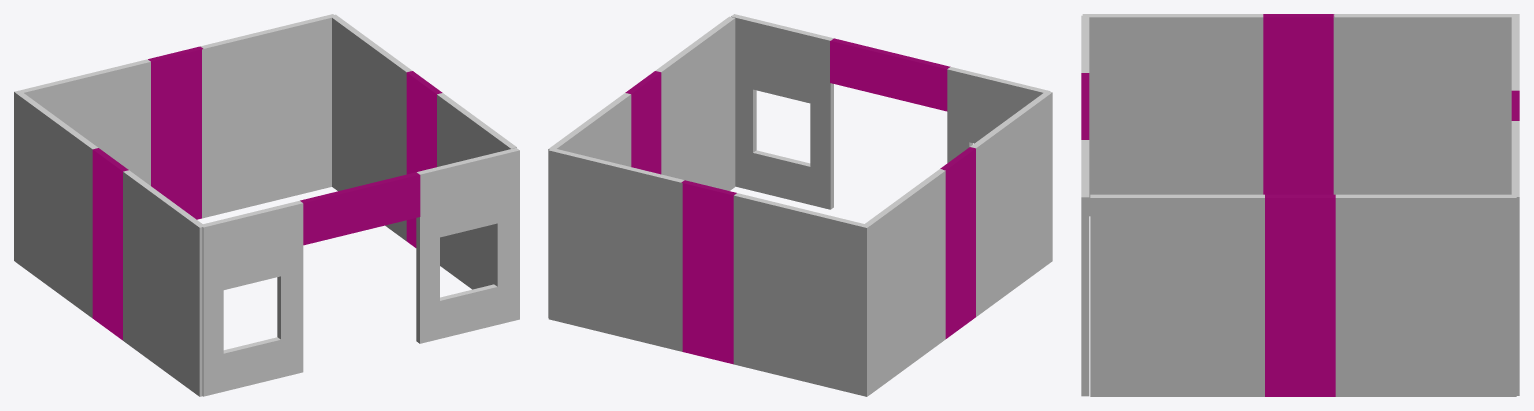
The model's file is room_foyer.glb.
3 renders of one model, left to right at view 1: azimuth 30°, elevation 25°; view 2: azimuth 150°, elevation 25°; view 3: azimuth 270°, elevation 25°, orthographic. The views are drawn at different scales.
Parts seen in each view (by area): view 1: foyer_back_wall, foyer_front.001, foyer_front, foyer_west_wall.002, foyer_west_wall.001, foyer_east_wall.002, foyer_back_wall.001, foyer_east_wall.001, south, wall_blocked_N, north, wall_blocked_W (+3 smaller); view 2: foyer_back_wall.001, foyer_back_wall, foyer_front.001, foyer_west_wall.001, foyer_west_wall.002, foyer_east_wall.001, south, wall_blocked_N, foyer_front, north, foyer_east_wall.002, wall_blocked_W (+3 smaller); view 3: foyer_east_wall.002, foyer_east_wall.001, foyer_west_wall.001, foyer_west_wall.002, wall_blocked_E, wall_blocked_W, east, west, foyer_front.001, foyer_back_wall, foyer_back_wall.001, south (+1 smaller).
Part boxes in pixels (x1,y1,x2,y2): foyer_back_wall: (200, 14, 333, 218); foyer_front.001: (416, 148, 519, 343); foyer_front: (200, 200, 303, 396); foyer_west_wall.002: (123, 170, 202, 396); foyer_west_wall.001: (16, 92, 98, 318); foyer_east_wall.002: (330, 14, 412, 240); foyer_back_wall.001: (14, 59, 150, 261); foyer_east_wall.001: (437, 93, 516, 289); south: (300, 172, 420, 245); wall_blocked_N: (151, 115, 201, 219); north: (148, 46, 203, 129); wall_blocked_W: (92, 214, 122, 340); foyer_back_wall.001: (733, 193, 869, 396); foyer_back_wall: (548, 149, 684, 351); foyer_front.001: (731, 14, 833, 209); foyer_west_wall.001: (864, 169, 945, 394); foyer_west_wall.002: (970, 91, 1052, 316); foyer_east_wall.001: (655, 16, 735, 190); south: (830, 38, 950, 111); wall_blocked_N: (682, 247, 733, 364); foyer_front: (947, 67, 1050, 162); north: (681, 180, 736, 262); foyer_east_wall.002: (548, 93, 631, 317); wall_blocked_W: (945, 214, 975, 338); foyer_east_wall.002: (1335, 194, 1516, 396); foyer_east_wall.001: (1090, 194, 1264, 396); foyer_west_wall.001: (1333, 14, 1514, 194); foyer_west_wall.002: (1082, 14, 1263, 216); wall_blocked_E: (1265, 273, 1335, 396); wall_blocked_W: (1263, 93, 1333, 194); east: (1265, 194, 1335, 277); west: (1263, 14, 1334, 96); foyer_front.001: (1081, 140, 1089, 396); foyer_back_wall: (1511, 121, 1519, 395); foyer_back_wall.001: (1511, 14, 1519, 90); south: (1081, 73, 1089, 139).
Bounding box in the file's own units: 7.93 × 4 × 7.99.
